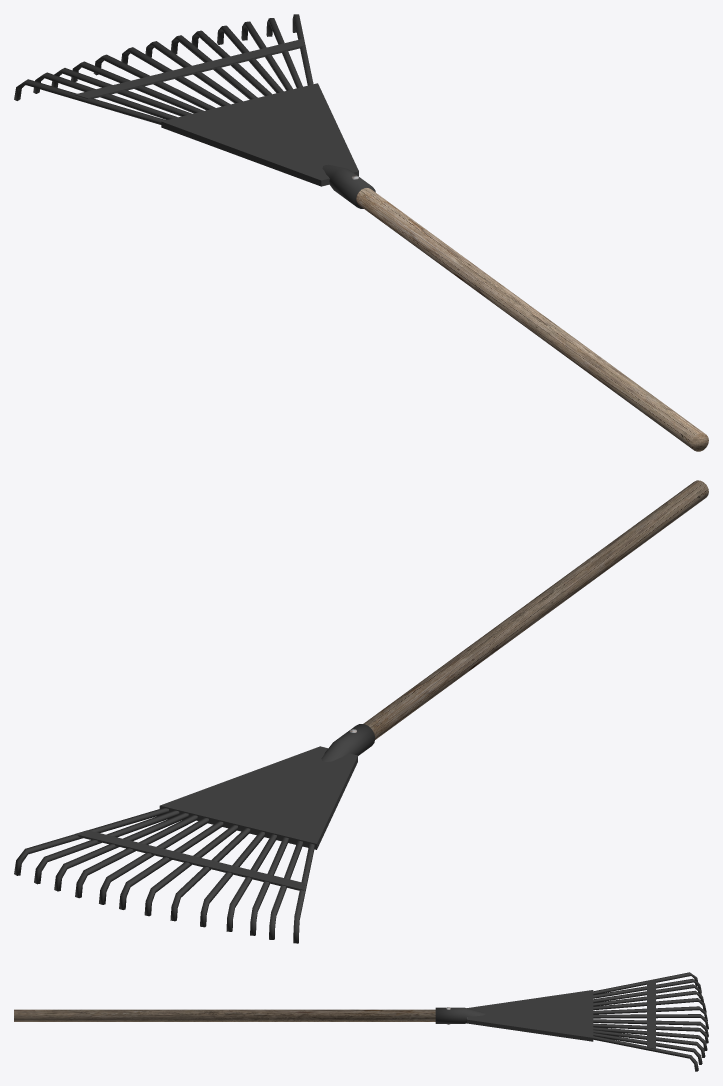
The model's file is Rastelo_01.obj.
The picture shows the model from 3 angles, top to bottom: view 1: azimuth 30°, elevation 25°; view 2: azimuth 150°, elevation 25°; view 3: azimuth 270°, elevation 25°; orthographic projection. The views are drawn at different scales.
Parts seen in each view (by area): view 1: Rastelo_01_Circle.004; view 2: Rastelo_01_Circle.004; view 3: Rastelo_01_Circle.004.
Part boxes in pixels (x1,y1,x2,y2): Rastelo_01_Circle.004: (14,14,708,451); Rastelo_01_Circle.004: (14,480,708,943); Rastelo_01_Circle.004: (14,972,708,1071).
Size of the model in its own units: 9.78 by 1.11 by 32.96.
